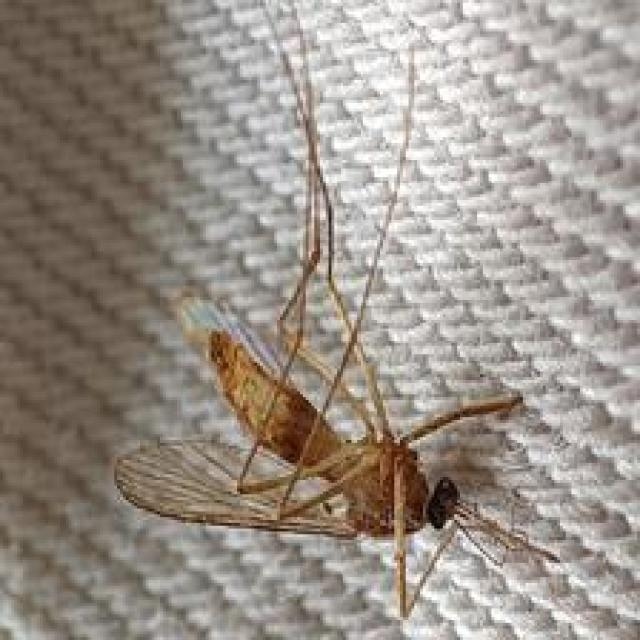Culex: (111, 0, 563, 620)
